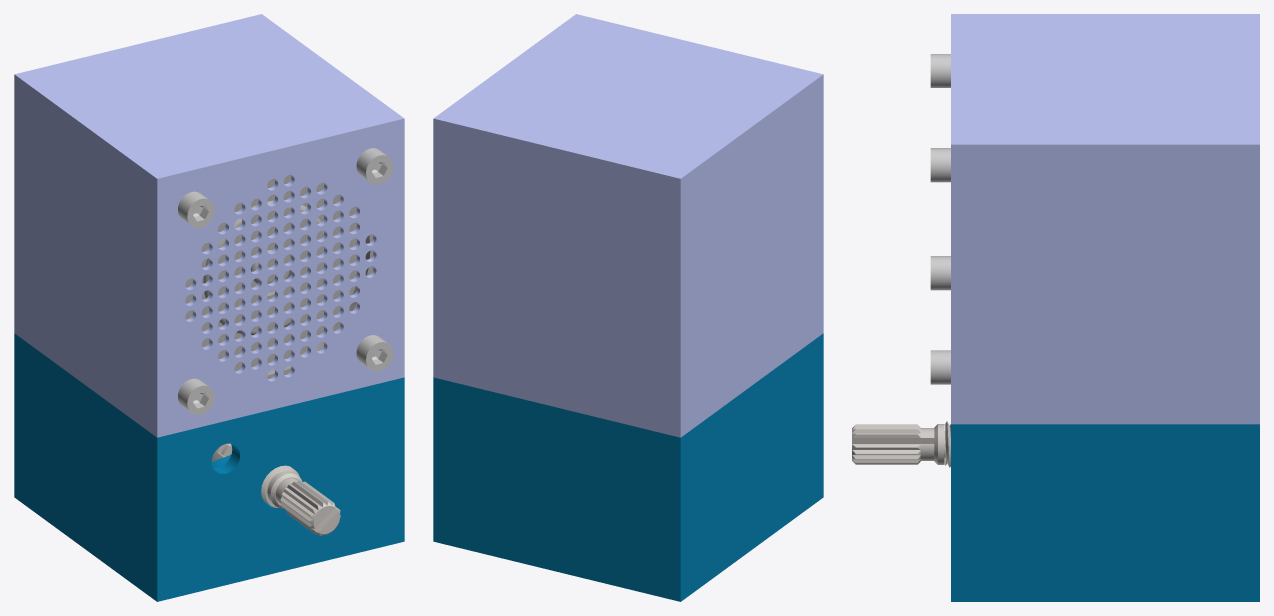
3 views of the same model, side by side, from view 1: azimuth 30°, elevation 25°; view 2: azimuth 150°, elevation 25°; view 3: azimuth 270°, elevation 25° (orthographic). The views are drawn at different scales.
Parts seen in each view (by area): view 1: Untitled 3 v9; view 2: Untitled 3 v9; view 3: Untitled 3 v9.
Boxes of the visible parts, <box> form: Untitled 3 v9: <box>14,14,404,601</box>; Untitled 3 v9: <box>433,14,823,601</box>; Untitled 3 v9: <box>852,14,1259,601</box>.
Size of the model in its own units: 4.5 by 7.36 by 5.94.
